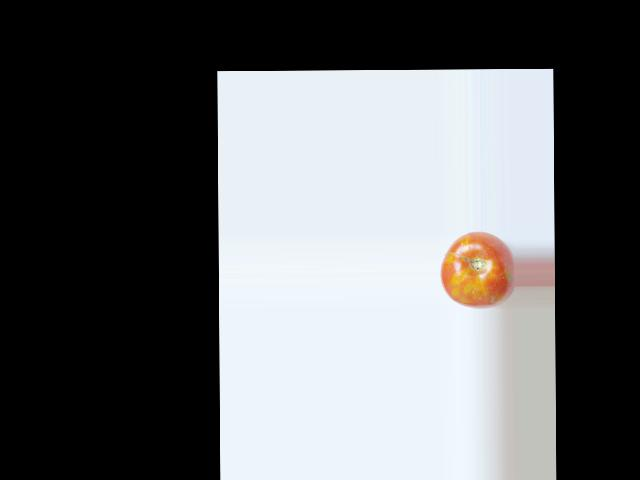tomato: (440, 231, 515, 308)
